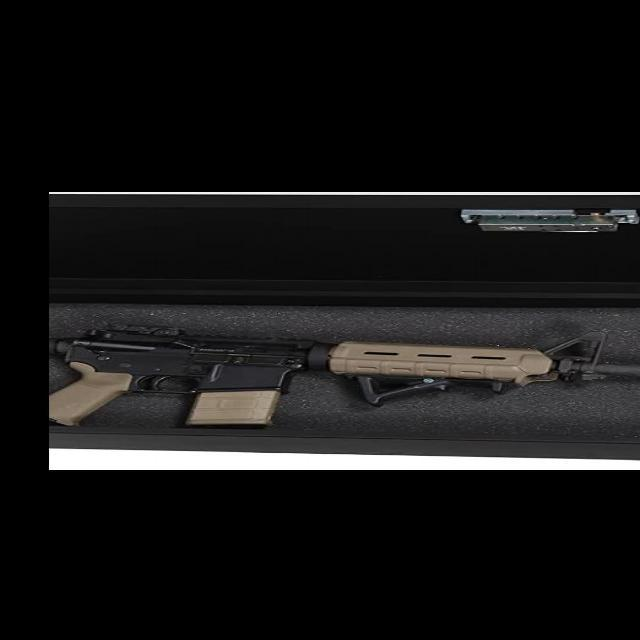weapon: (48, 323, 640, 427)
